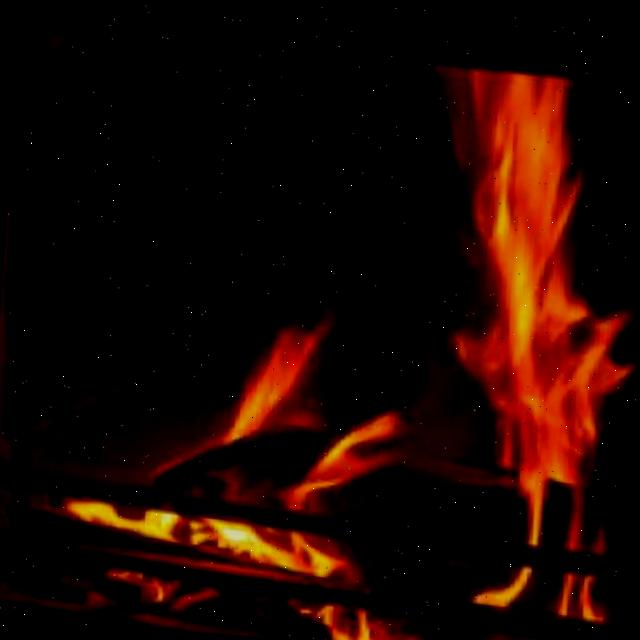fire: (377, 62, 640, 640), (73, 312, 409, 640)
